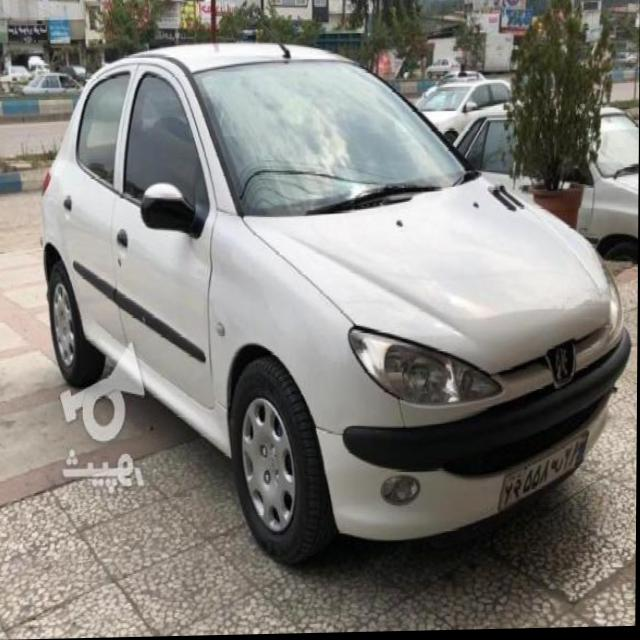licence: (500, 430, 591, 508)
